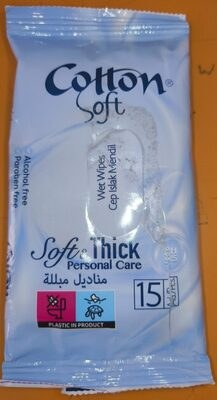Cotton Soft Soft & Thick Personal Care: (11, 20, 206, 380)
